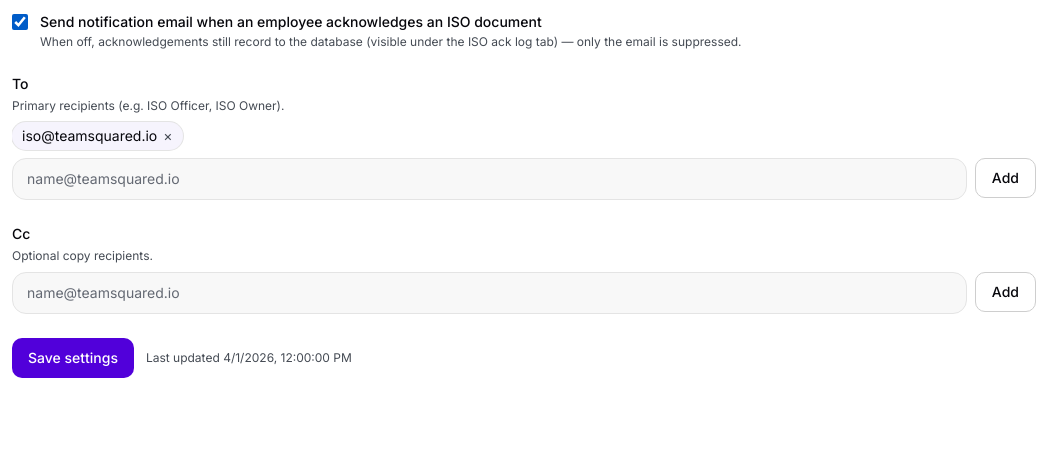
Test case: IsoNotificationSettingsForm › surfaces an error message when the server returns an error body
Click the button "Save settings".
click(73, 358)  # box x1=12 y1=338 x2=134 y2=378
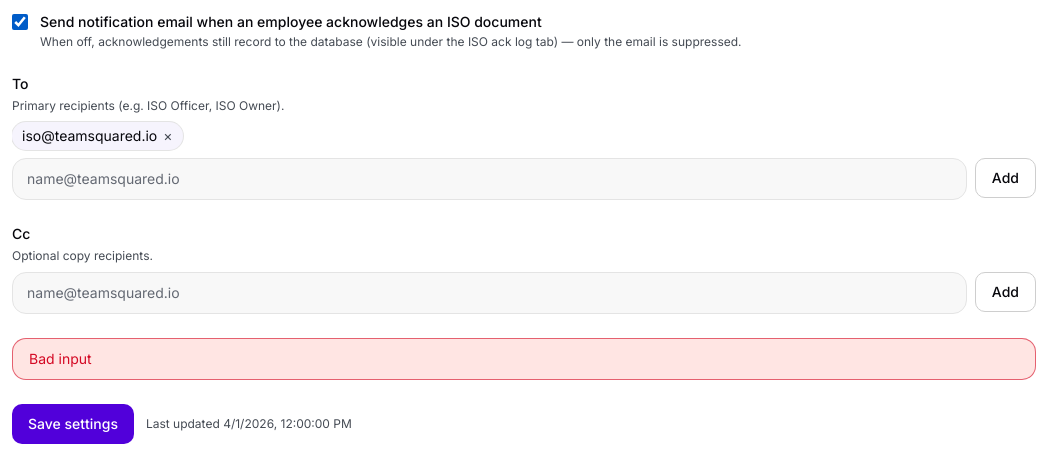
Expected: the text "Bad input" is shown, x1=12 y1=338 x2=1036 y2=380
